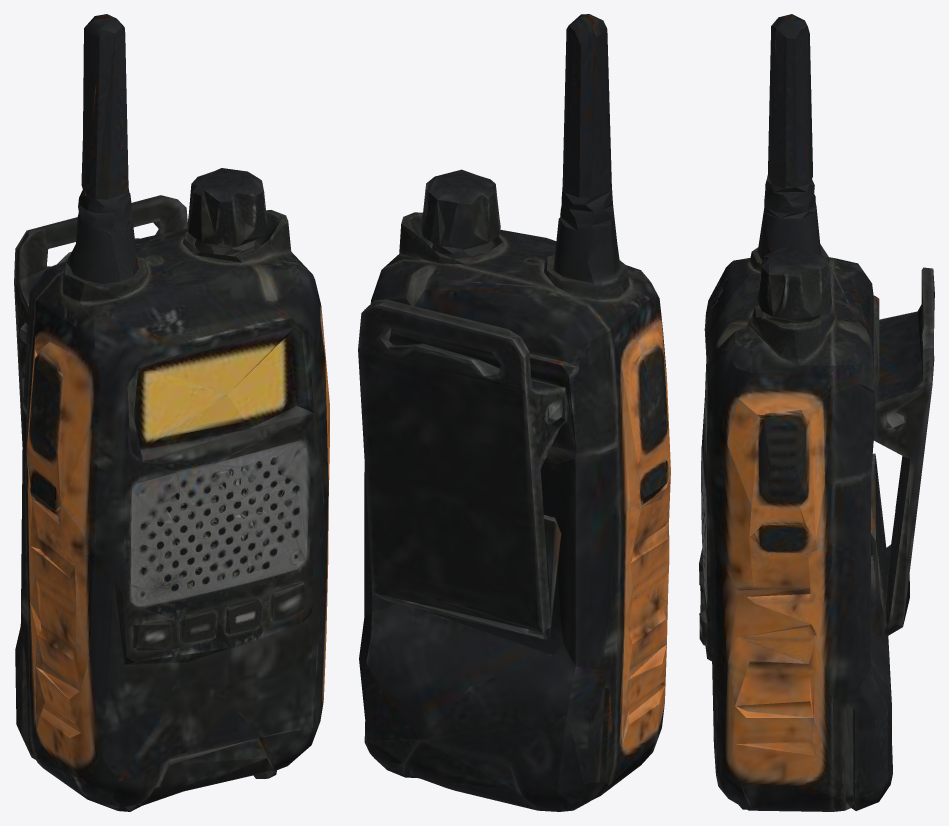
File: district-radio.glb
3 views of the same model, side by side, from view 1: azimuth 30°, elevation 25°; view 2: azimuth 150°, elevation 25°; view 3: azimuth 270°, elevation 25° (orthographic). The views are drawn at different scales.
Visible parts, largest first — view 1: output_unwrapped; view 2: output_unwrapped; view 3: output_unwrapped.
Part boxes in pixels (x1=…): output_unwrapped: x1=14, y1=14, x2=329, y2=811; output_unwrapped: x1=358, y1=14, x2=670, y2=811; output_unwrapped: x1=699, y1=14, x2=934, y2=811.
Size of the model in its own units: 0.7116 by 1.9 by 0.5587.
Materials: 1 (1 with a texture image).
